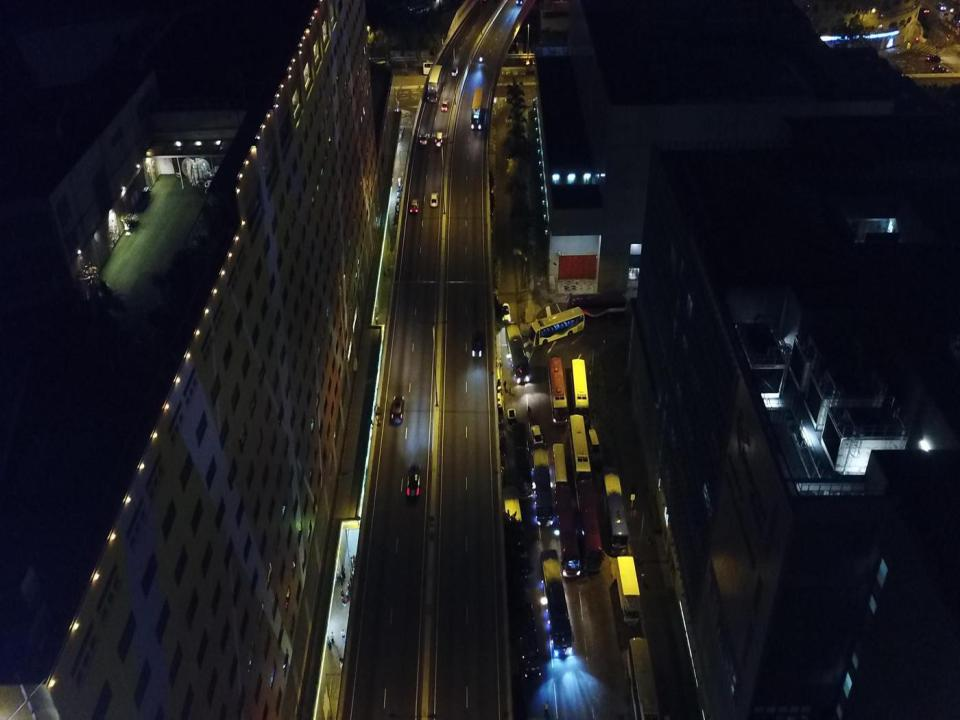bus: (540, 549, 572, 657), (626, 638, 660, 719), (576, 481, 603, 572), (555, 487, 581, 577), (529, 306, 585, 347), (603, 464, 627, 557), (569, 414, 591, 490), (532, 448, 552, 528), (512, 422, 532, 501), (505, 322, 530, 384), (567, 293, 626, 319), (547, 356, 567, 425), (571, 358, 589, 426), (552, 442, 568, 494), (470, 87, 484, 130), (427, 65, 443, 102), (422, 60, 454, 76)
car: (407, 464, 420, 500), (391, 396, 404, 425), (471, 332, 482, 358), (531, 425, 543, 445), (507, 408, 516, 433), (502, 302, 510, 324), (410, 198, 419, 214), (440, 100, 449, 112), (430, 193, 438, 206), (451, 66, 458, 78), (421, 134, 428, 144)
truck: (616, 556, 640, 628), (504, 497, 523, 545)
van: (492, 392, 504, 425), (588, 429, 600, 458), (493, 366, 501, 395), (435, 133, 443, 146)
